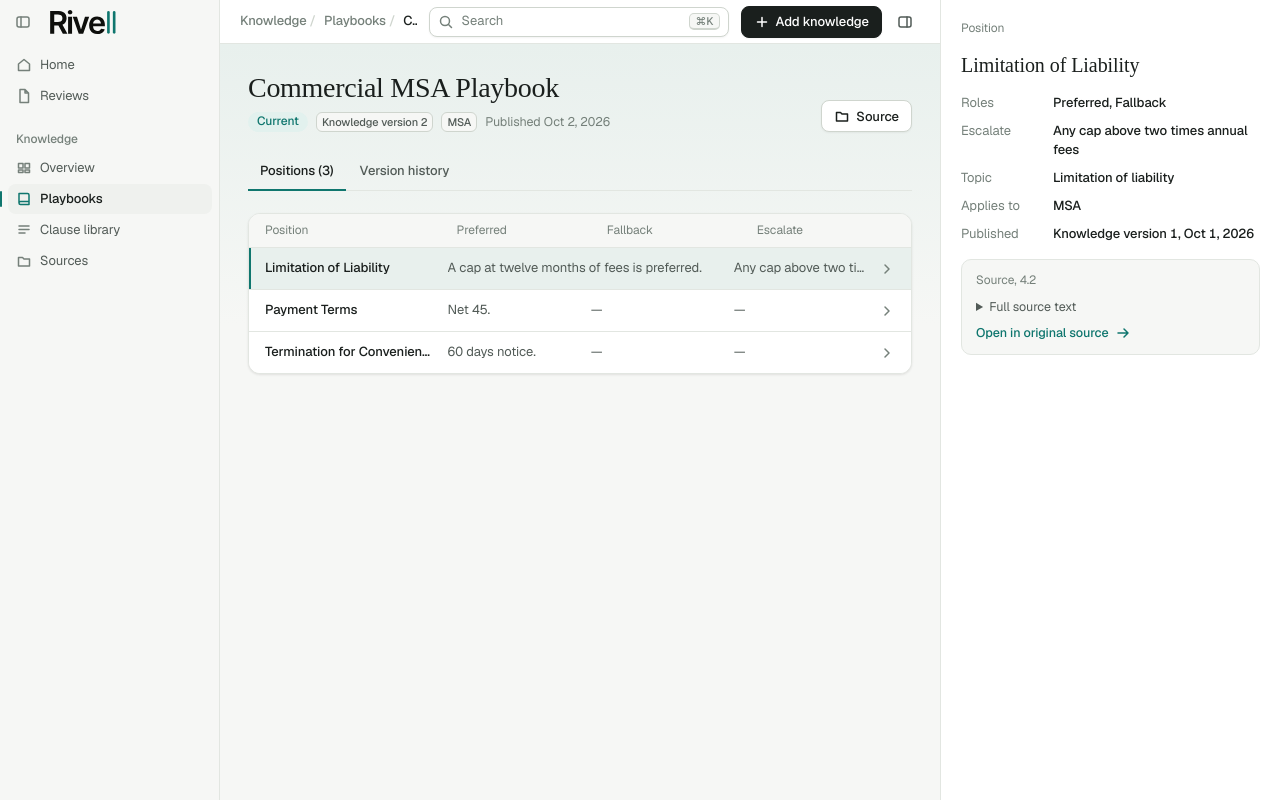
Test: Playbook detail › selects the first position and fills the details panel from the selected one
Expected: the heading "Commercial MSA Playbook" is shown, 248,72 -> 610,104
Expected: the heading "Limitation of Liability" is shown, 961,54 -> 1140,76
Click the button "Payment Terms Net 45. — —" at coordinates (311, 310), box 249,290 -> 911,331
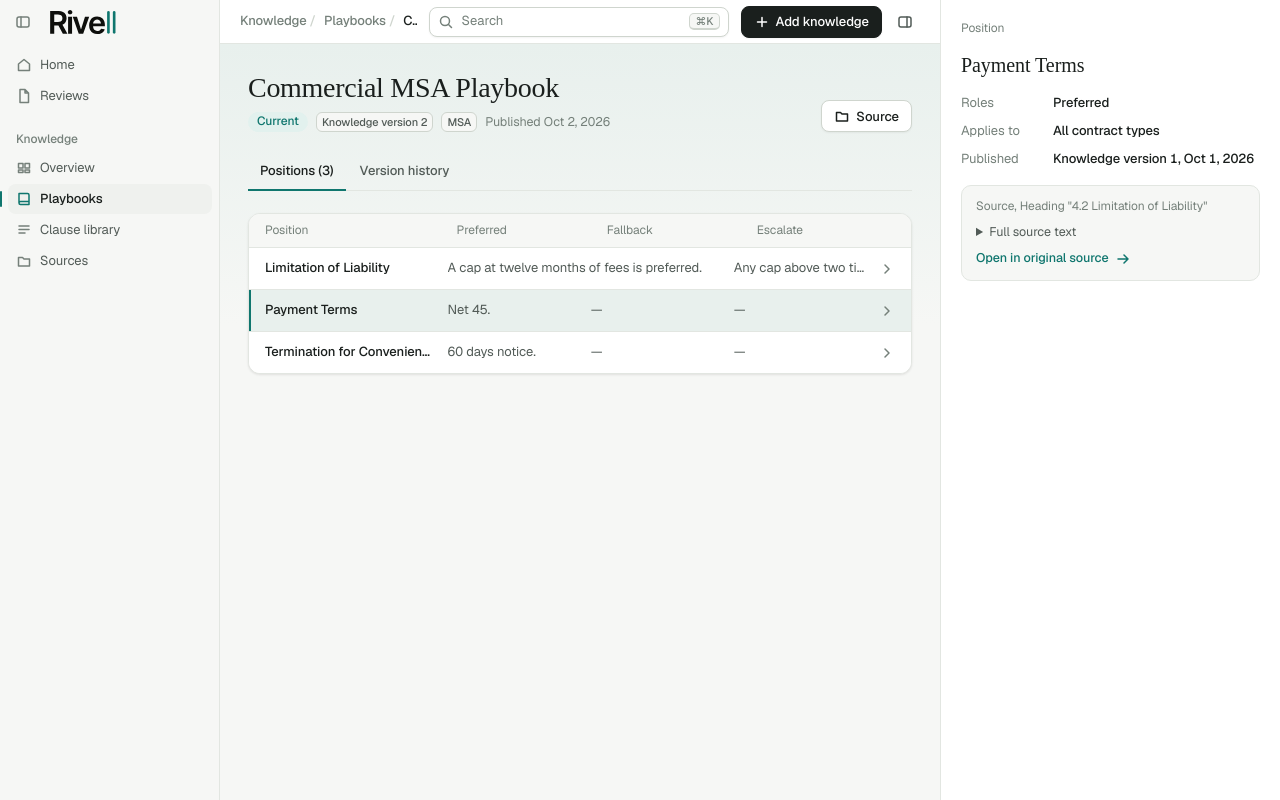
Result: the heading "Payment Terms" is shown at 961,54 -> 1084,76
Result: the text "Topic" is gone
